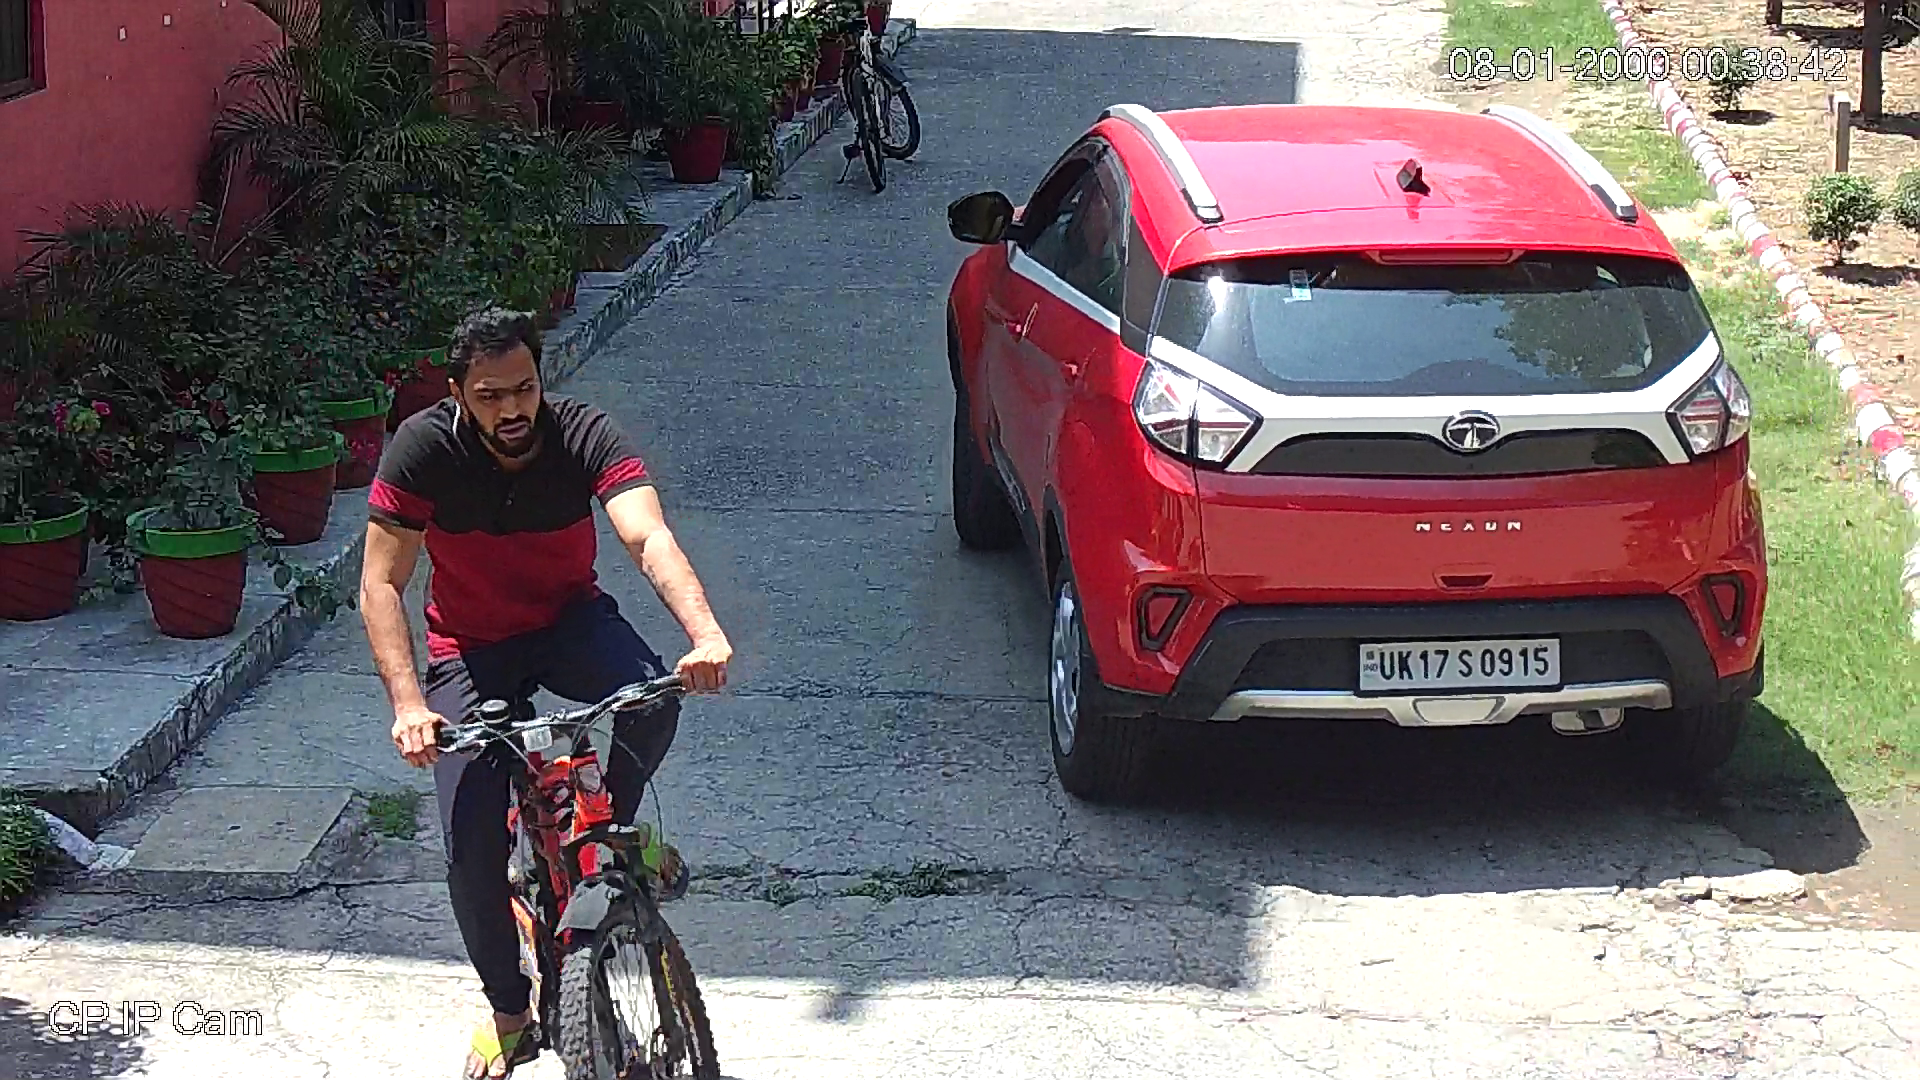plate: (1354, 630, 1568, 700)
